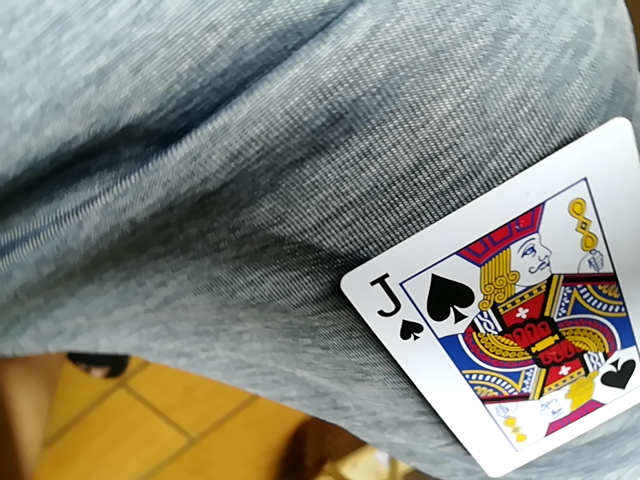ht j: (340, 119, 640, 479)
